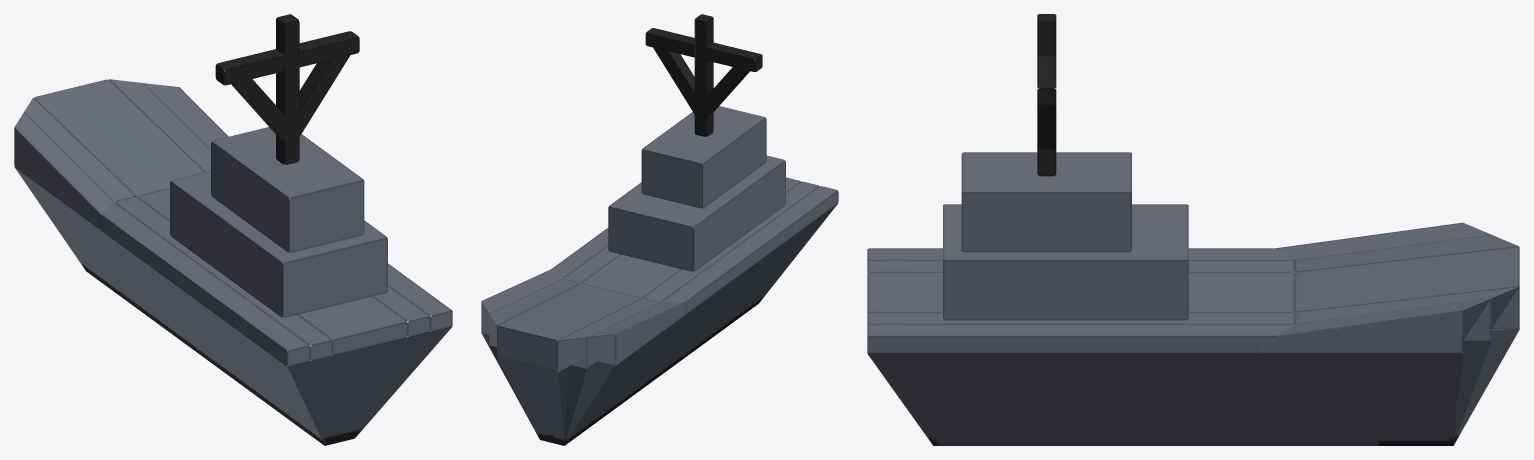
The model's file is battleship.fbx.
3 renders of one model, left to right at view 1: azimuth 30°, elevation 25°; view 2: azimuth 150°, elevation 25°; view 3: azimuth 270°, elevation 25°, orthographic. The views are drawn at different scales.
Parts seen in each view (by area): view 1: cube, cube_1, cube_2, cube_3, cube_4, cube_5, cube_6; view 2: cube, cube_1, cube_2, cube_4, cube_3, cube_5, cube_6; view 3: cube, cube_1, cube_2, cube_3, cube_4, cube_5.
Part boxes in pixels (x1,y1,x2,y2): cube: (14, 79, 452, 445); cube_1: (170, 171, 387, 317); cube_2: (211, 127, 364, 252); cube_3: (276, 14, 299, 164); cube_4: (215, 31, 359, 85); cube_5: (275, 45, 352, 143); cube_6: (224, 69, 291, 144); cube: (481, 177, 838, 445); cube_1: (608, 155, 785, 271); cube_2: (641, 106, 766, 208); cube_4: (645, 28, 762, 71); cube_3: (694, 14, 713, 136); cube_5: (651, 38, 713, 118); cube_6: (693, 59, 755, 120); cube: (867, 222, 1519, 445); cube_1: (943, 204, 1188, 320); cube_2: (961, 152, 1131, 252); cube_3: (1037, 14, 1056, 176); cube_4: (1037, 56, 1056, 105); cube_5: (1037, 87, 1056, 149).
Size of the model in its own units: 138 by 306 by 431.
1 material, 1 textured.
